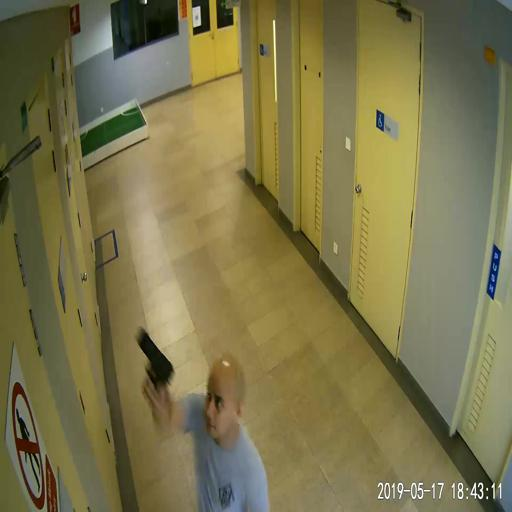pistol: (136, 328, 173, 396)
